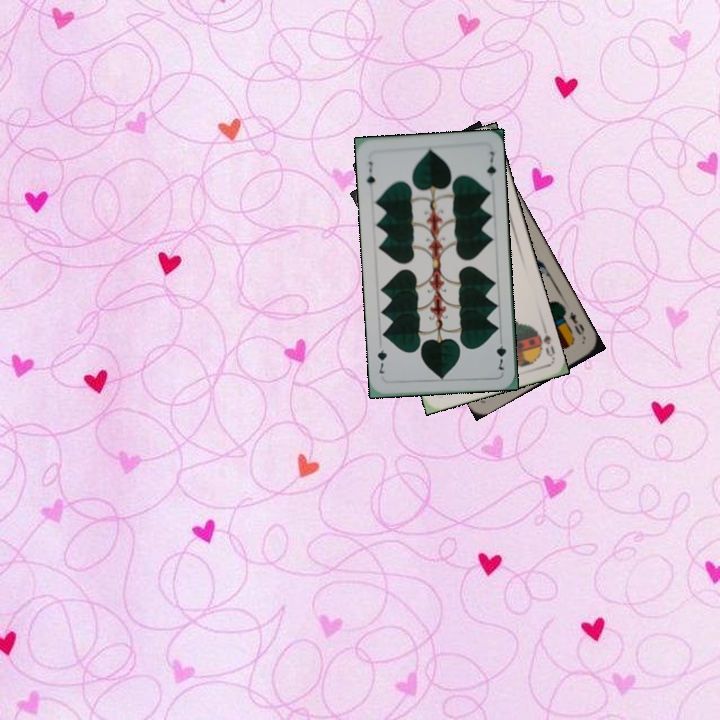EO: (565, 308, 588, 342)
G7: (493, 333, 509, 373), (363, 157, 377, 193)
SO: (531, 321, 558, 361)
